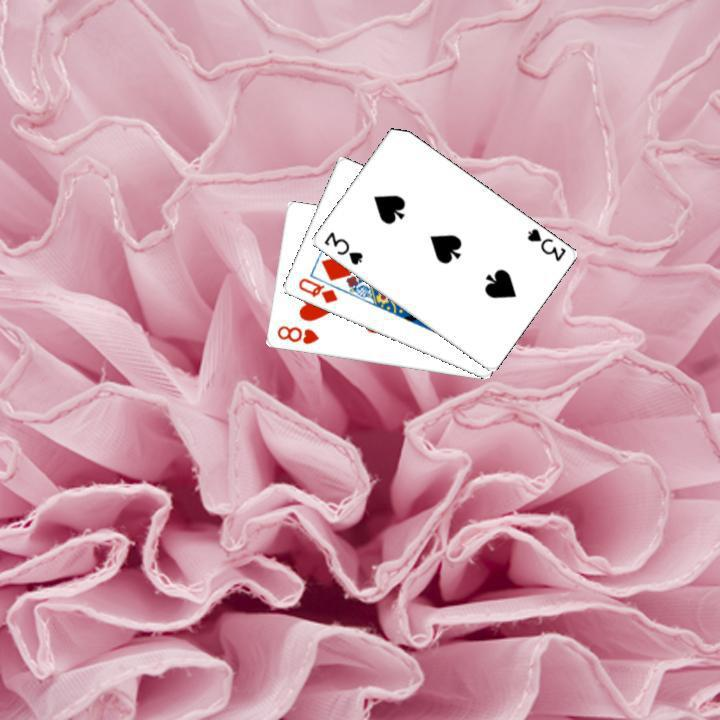3: (319, 227, 365, 267), (522, 224, 568, 263)
8: (272, 321, 321, 346)
Q: (293, 274, 339, 305)
